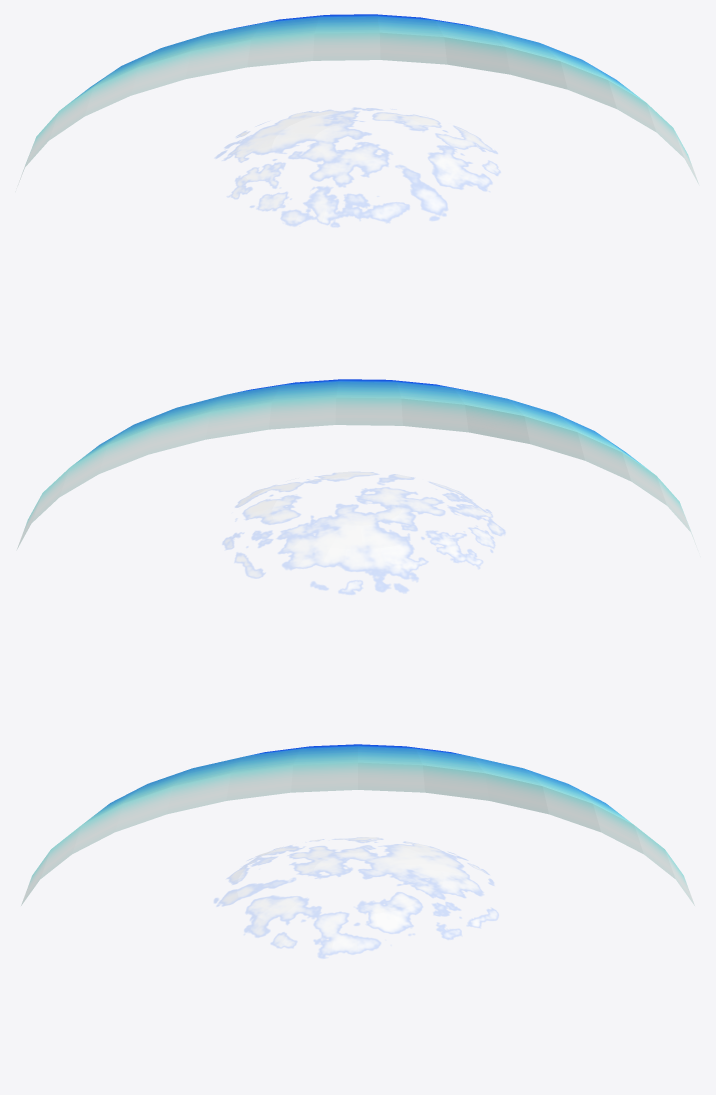
File: sky.glb
3 renders of one model, top to bottom at view 1: azimuth 30°, elevation 25°; view 2: azimuth 150°, elevation 25°; view 3: azimuth 270°, elevation 25°, orthographic.
Parts seen in each view (by area): view 1: m001_05, m001_06; view 2: m001_05, m001_06; view 3: m001_05, m001_06.
Boxes of the visible parts, x1,y1,x2,y2 form: m001_05: (15, 14, 699, 191); m001_06: (215, 107, 500, 226); m001_05: (16, 379, 700, 556); m001_06: (222, 471, 505, 594); m001_05: (21, 744, 694, 905); m001_06: (214, 837, 498, 958).
Bounding box in the file's own units: 100000 × 20000 × 100000.
Materials: 4 (4 with a texture image).
